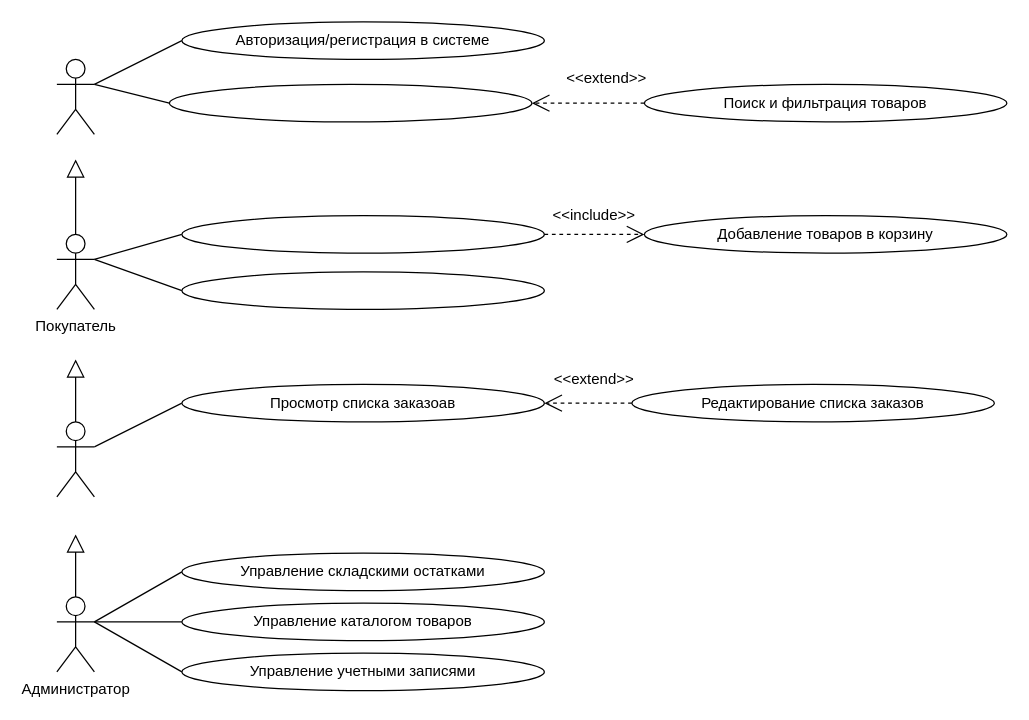
Image size: 1029x720. Some labels were removed from this diagram. The shapes that lost their labels are listed below. From the top down, each one's box as (x1, y1, x2, y2) in pixels, then its label:
(56, 58, 94, 134): Гость
(168, 83, 532, 122): Просмотр каталога
(181, 214, 544, 253): Оформление заказа
(181, 271, 544, 309): Просмотр истории заказов
(56, 421, 94, 497): Сотрудник
